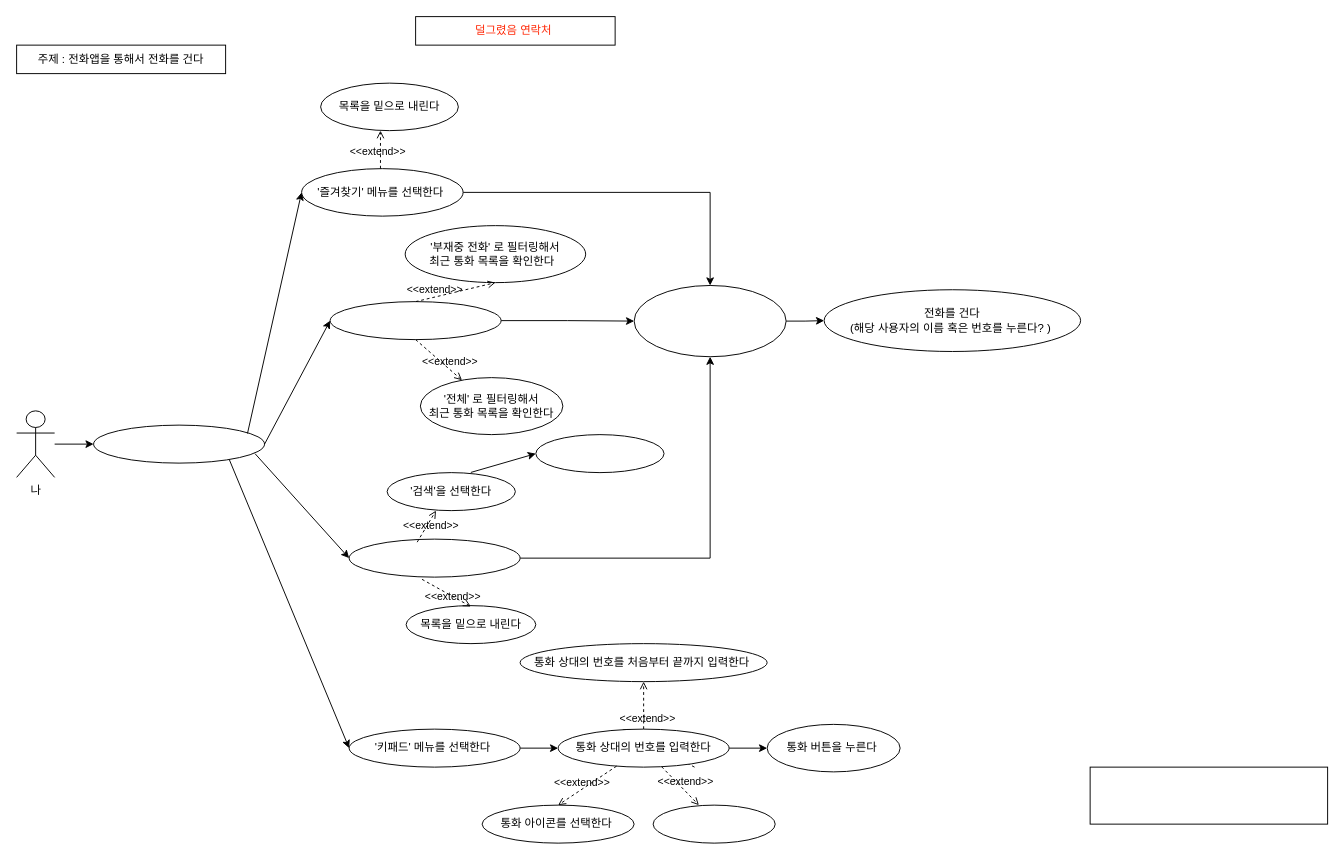
This 1344x860 diagram has some shape labels left out. The centre of each missing label's shape, as x and y in pixels:
'연락처' 메뉴를 선택한다: the point at 434,557
'최근 통화' 메뉴를 선택한다: the point at 415,320
검색어를 입력한다: the point at 599,453
단축번호를 누른다: the point at 713,823
여기 확장관계로 하는거 아님 -- 유스케이스 내용을 이렇게 하면 안됨 액터는 나 // 내가 뭘 한다: the point at 1208,795
전화 어플리케이션을 선택한다: the point at 179,443
현재 보여진 화면에서 바로 통화 상대를 확인한다: the point at 709,321
